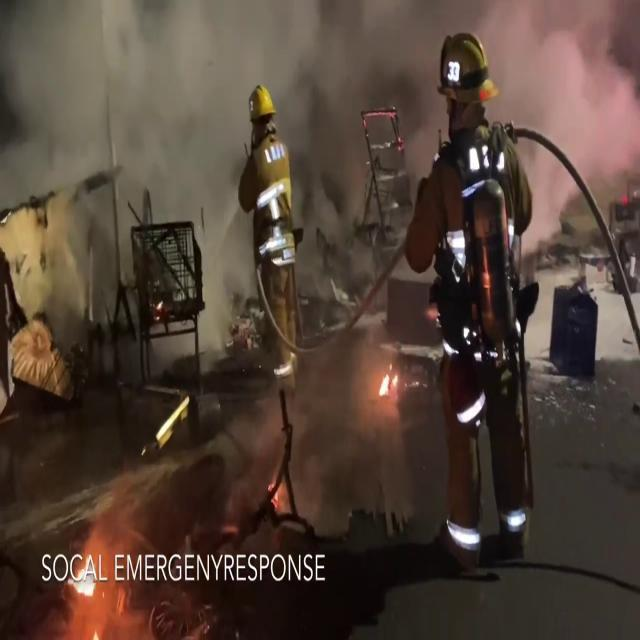Fire: (374, 356, 402, 410)
Smoke: (22, 0, 390, 263), (400, 0, 640, 198)
